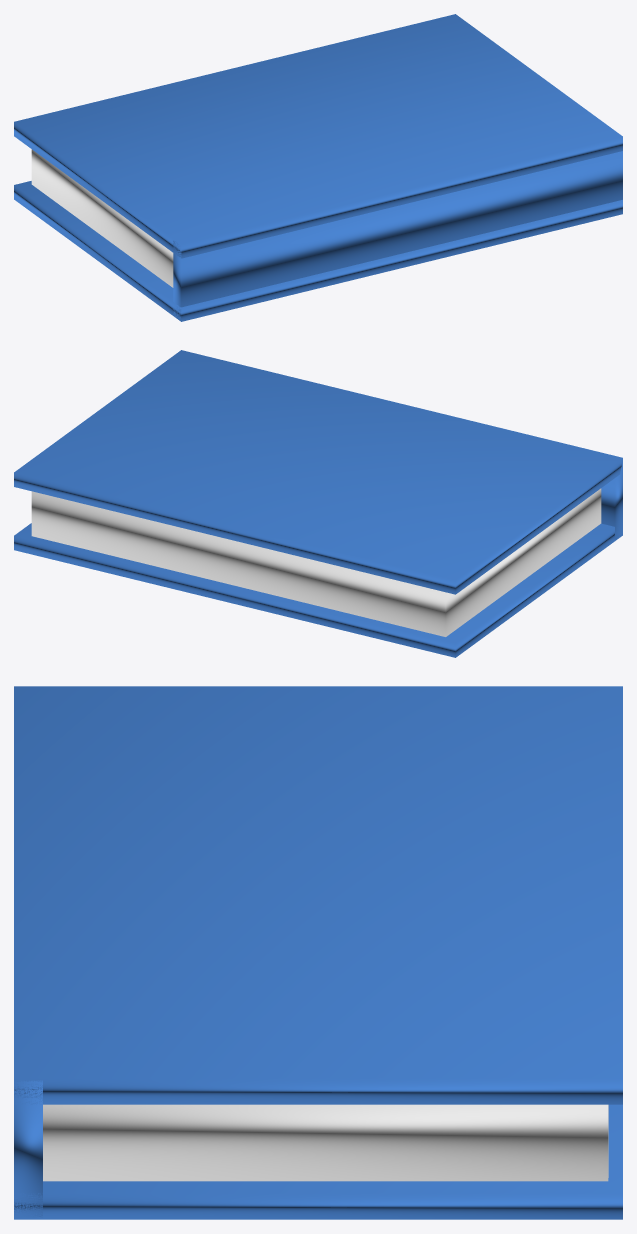
The model's file is book.fbx.
The picture shows the model from 3 angles, top to bottom: view 1: azimuth 30°, elevation 25°; view 2: azimuth 150°, elevation 25°; view 3: azimuth 270°, elevation 25°; orthographic projection. The views are drawn at different scales.
Parts seen in each view (by area): view 1: Cube; view 2: Cube; view 3: Cube.
Boxes of the visible parts, x1,y1,x2,y2 form: Cube: (14, 14, 622, 321); Cube: (14, 350, 622, 657); Cube: (14, 686, 622, 1219).
Size of the model in its own units: 320 by 53.77 by 210.
